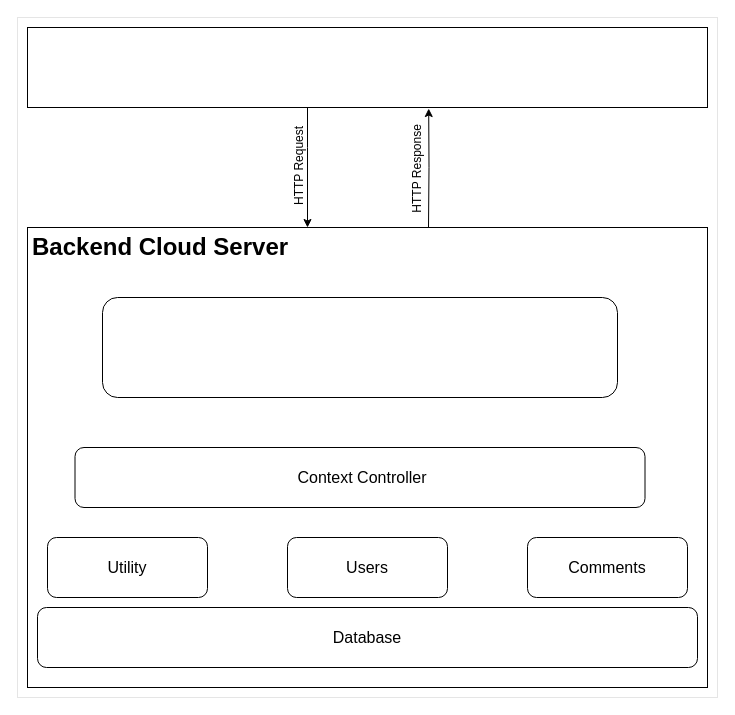
Image size: 735x715. Some labels were removed from this diagram. The centre of each missing label's shape, as x and y in pixels:
"Browser Extension Client" goes at (x=367, y=67).
"Public API" goes at (x=360, y=347).
